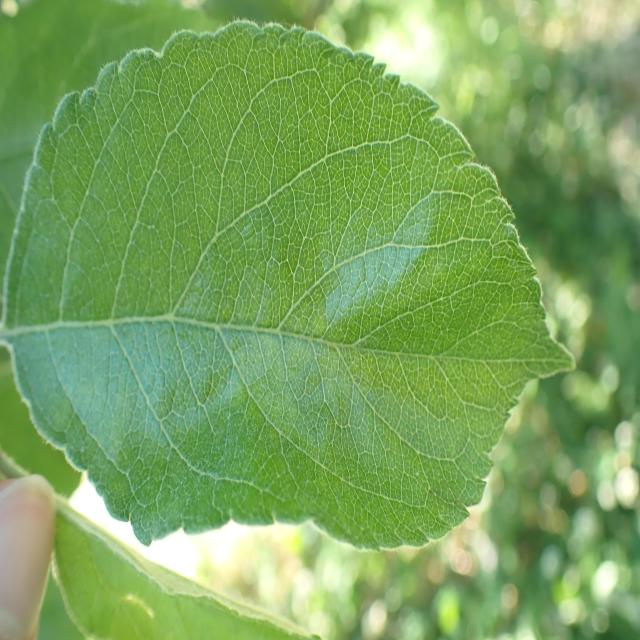healthy: (1, 18, 577, 552)
